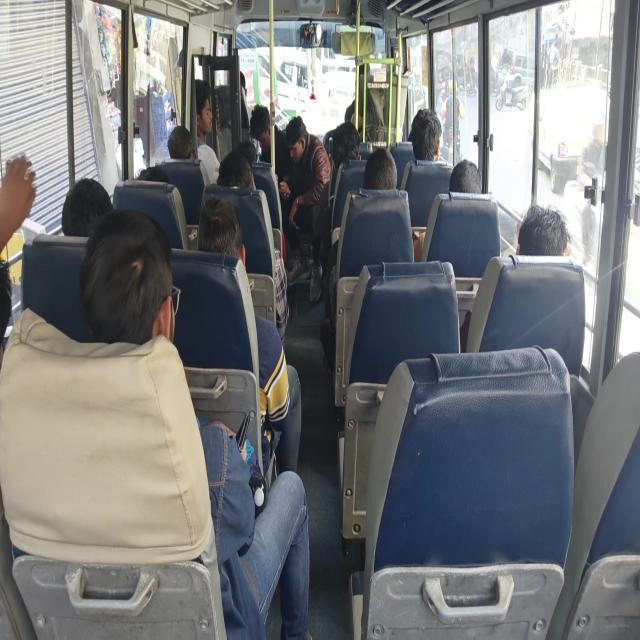person: (83, 210, 174, 338), (186, 200, 243, 275), (63, 180, 110, 236), (514, 213, 563, 258), (358, 146, 401, 193), (211, 153, 259, 192), (405, 112, 439, 164), (136, 154, 177, 191), (333, 124, 360, 178), (450, 156, 483, 199), (190, 81, 210, 146), (228, 132, 258, 166), (167, 124, 195, 159), (0, 261, 7, 372), (249, 117, 271, 151), (284, 130, 307, 162)
